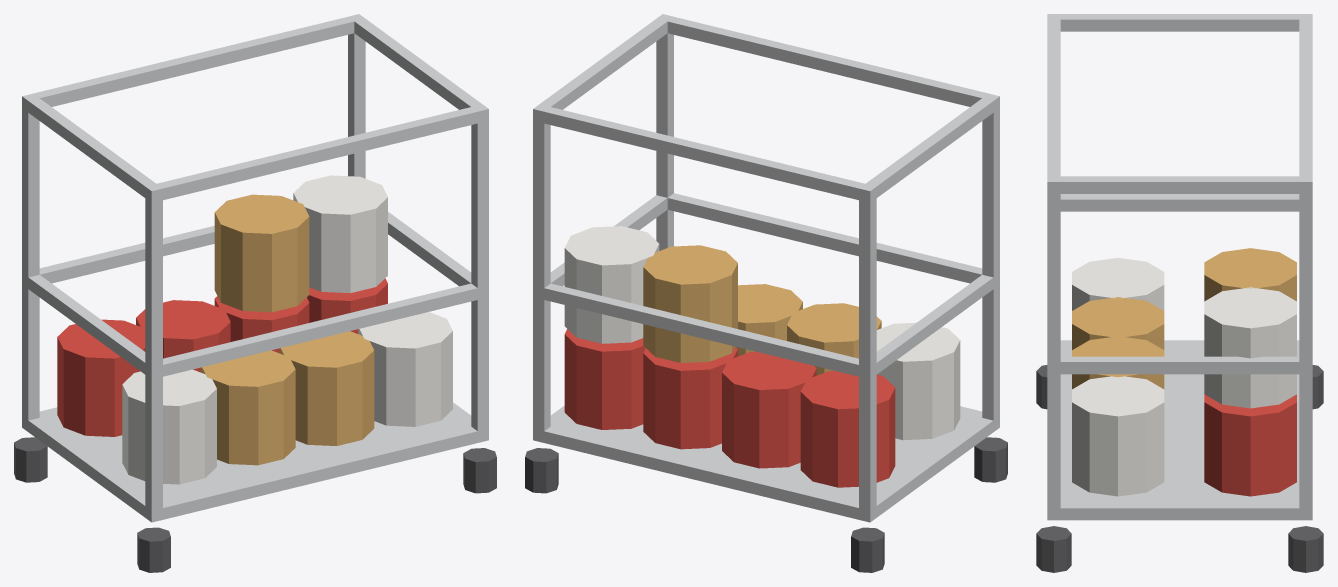
Rendered from Ball_Cart.fbx.
The picture shows the model from 3 angles, left to right: view 1: azimuth 30°, elevation 25°; view 2: azimuth 150°, elevation 25°; view 3: azimuth 270°, elevation 25°; orthographic projection. The views are drawn at different scales.
Parts seen in each view (by area): view 1: Ball_Cart; view 2: Ball_Cart; view 3: Ball_Cart.
Part boxes in pixels (x1,y1,x2,y2): Ball_Cart: (14, 14, 496, 572); Ball_Cart: (525, 14, 1007, 572); Ball_Cart: (1036, 14, 1323, 572).
Bounding box in the file's own units: 0.95 × 0.965 × 0.65.
